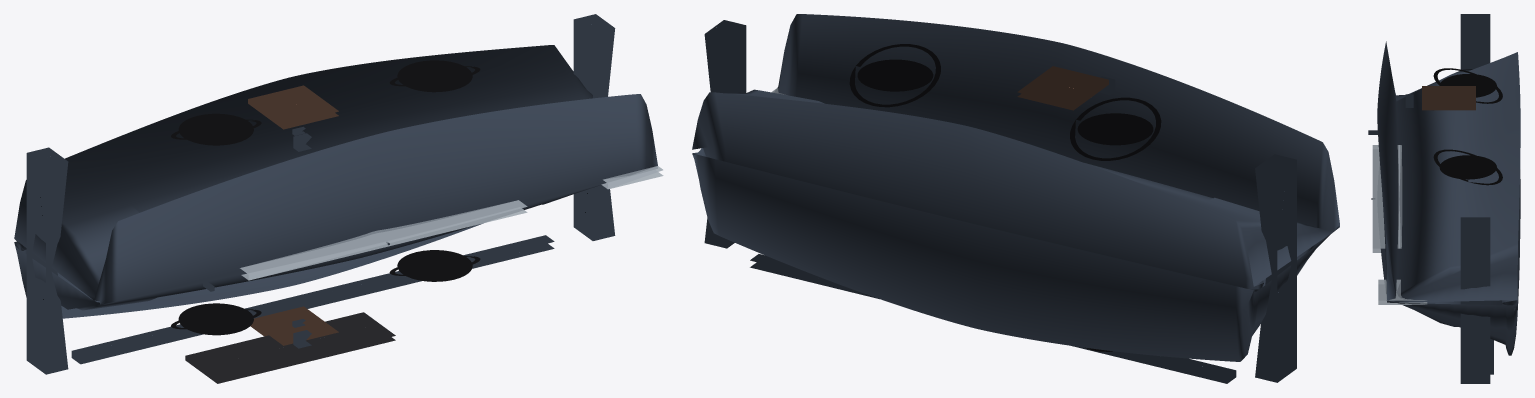
Rendered from car_ue.obj.
3 views of the same model, side by side, from view 1: azimuth 30°, elevation 25°; view 2: azimuth 150°, elevation 25°; view 3: azimuth 270°, elevation 25° (orthographic). The views are drawn at different scales.
Visible parts, largest first — view 1: Body, Tire, Interior_Dark, Glazing, Leather; view 2: Body, Tire, Leather; view 3: Body, Tire, Glazing, Leather.
Boxes of the visible parts, box(x1,y1,x2,y2) form: Body: box(14, 14, 657, 374); Tire: box(171, 60, 480, 335); Interior_Dark: box(185, 312, 395, 383); Glazing: box(240, 166, 663, 280); Leather: box(248, 85, 338, 345); Body: box(692, 14, 1339, 383); Tire: box(849, 44, 1161, 351); Leather: box(1017, 66, 1108, 110); Body: box(1368, 14, 1520, 383); Tire: box(1433, 68, 1502, 185); Glazing: box(1372, 145, 1427, 304); Leather: box(1422, 86, 1475, 110).
Bounding box in the file's own units: 5.1 × 1.95 × 1.55.
